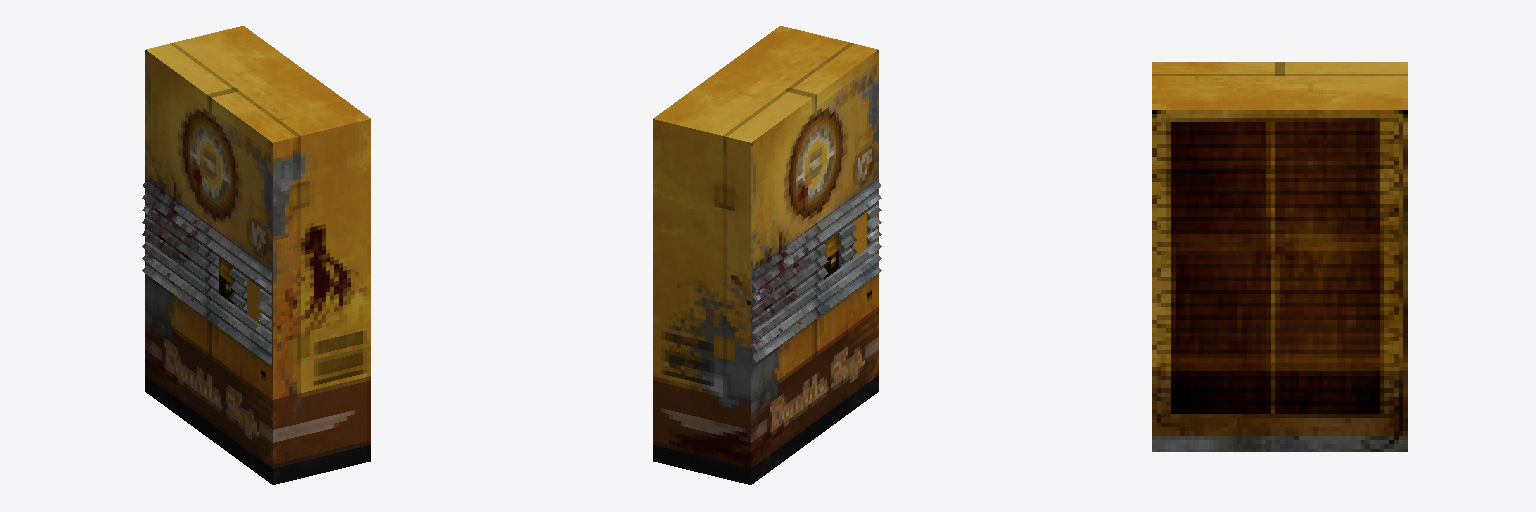
The picture shows the model from 3 angles: view 1: azimuth 30°, elevation 25°; view 2: azimuth 150°, elevation 25°; view 3: azimuth 270°, elevation 25°; orthographic projection.
Visible parts, largest first — view 1: DT, DT_Front.000, DT_Front.002, DT_Front.003, DT_Front.012, DT_Front, DT_Front.004, DT_Front.006, DT_Front.001; view 2: DT, DT_Front.000, DT_Front.002, DT_Front.003, DT_Front.012, DT_Front, DT_Front.004, DT_Front.006, DT_Front.001; view 3: DT.
Boxes of the visible parts, <box> form: DT: <box>145,26,370,484</box>; DT_Front.000: <box>142,253,271,353</box>; DT_Front.002: <box>142,265,271,365</box>; DT_Front.003: <box>142,241,271,341</box>; DT_Front.012: <box>142,193,271,292</box>; DT_Front: <box>143,180,271,280</box>; DT_Front.004: <box>142,217,218,278</box>; DT_Front.006: <box>142,229,218,290</box>; DT_Front.001: <box>142,205,218,266</box>; DT: <box>653,26,878,484</box>; DT_Front.000: <box>752,253,881,353</box>; DT_Front.002: <box>752,265,881,365</box>; DT_Front.003: <box>752,241,881,341</box>; DT_Front.012: <box>752,193,881,292</box>; DT_Front: <box>752,180,880,280</box>; DT_Front.004: <box>752,256,828,316</box>; DT_Front.006: <box>752,268,828,329</box>; DT_Front.001: <box>752,244,827,304</box>; DT: <box>1152,62,1407,451</box>.
Bounding box in the file's own units: 12.55 × 40 × 27.
1 materials, 1 textured.